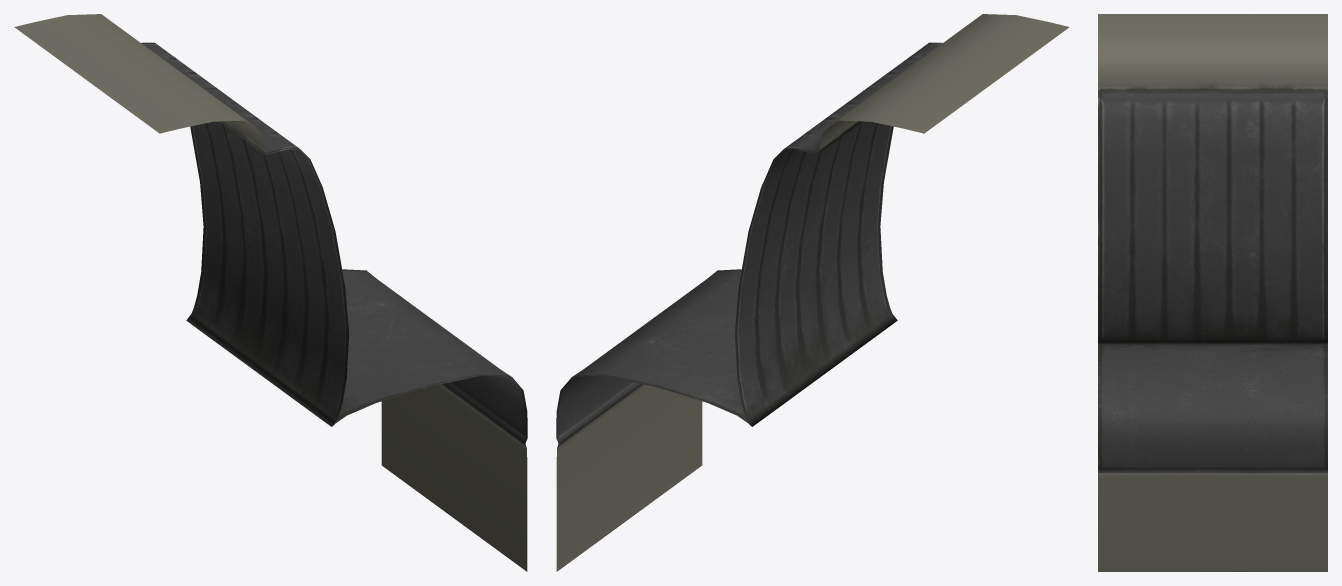
Rendered from Chair.glb.
The picture shows the model from 3 angles, left to right: view 1: azimuth 30°, elevation 25°; view 2: azimuth 150°, elevation 25°; view 3: azimuth 270°, elevation 25°; orthographic projection. The views are drawn at different scales.
Visible parts, largest first — view 1: Furniture_low.002; view 2: Furniture_low.002; view 3: Furniture_low.002.
Boxes of the visible parts, x1,y1,x2,y2 form: Furniture_low.002: (14, 14, 527, 571); Furniture_low.002: (556, 14, 1069, 571); Furniture_low.002: (1098, 14, 1327, 571).
Size of the model in its own units: 1.46 by 2 by 1.
Materials: 1 (1 with a texture image).
